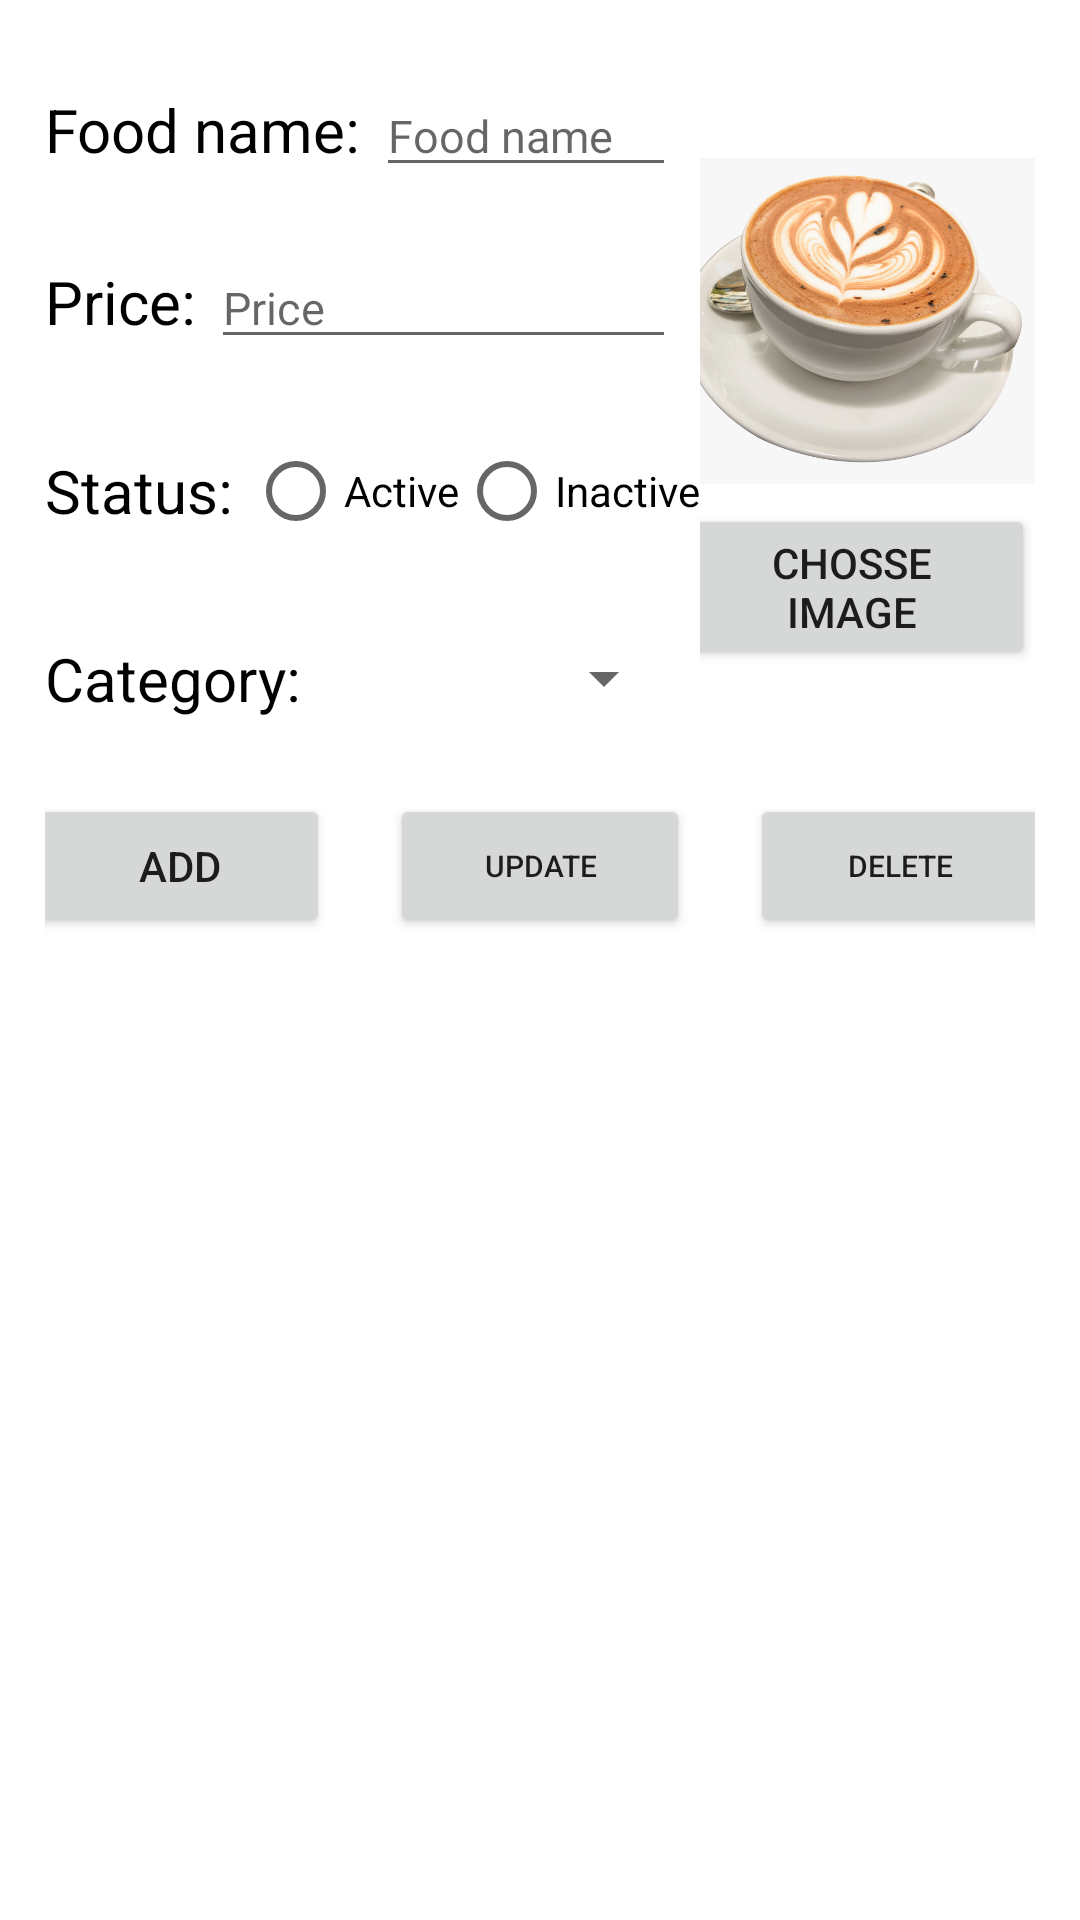

Icon bounding boxes for this 1080x1920 phone screenshot, format (x1, y1, x2, y2):
milk coffe: (700, 175, 1022, 463)
